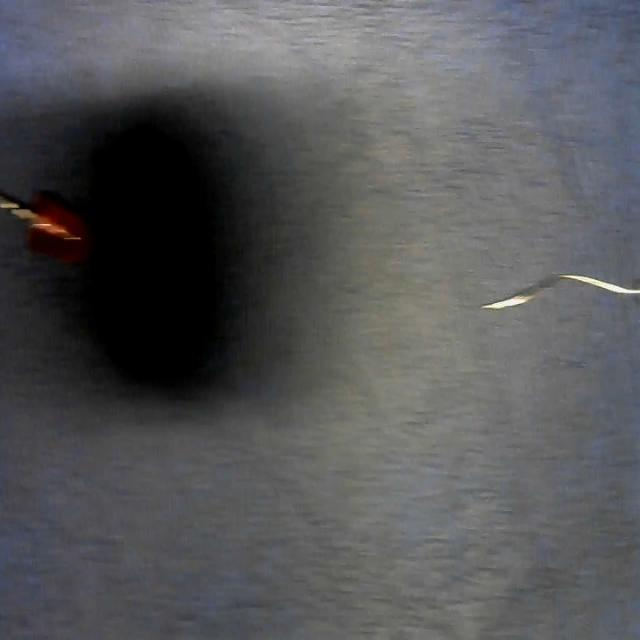LED: (0, 172, 89, 263)
